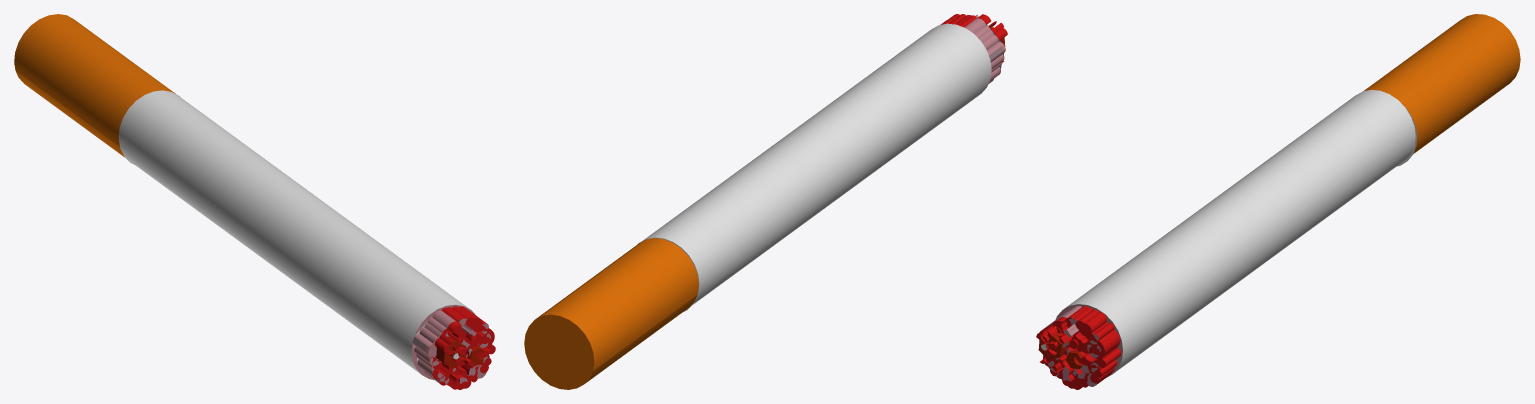
The model's file is cig.obj.
3 views of the same model, side by side, from view 1: azimuth 30°, elevation 25°; view 2: azimuth 150°, elevation 25°; view 3: azimuth 330°, elevation 25° (orthographic).
Visible parts, largest first — view 1: Mesh1 Model; view 2: Mesh1 Model; view 3: Mesh1 Model.
Boxes of the visible parts, x1,y1,x2,y2 form: Mesh1 Model: (14, 14, 495, 389); Mesh1 Model: (524, 14, 1007, 389); Mesh1 Model: (1036, 14, 1520, 389).
Size of the model in its own units: 24.38 by 24.46 by 248.
